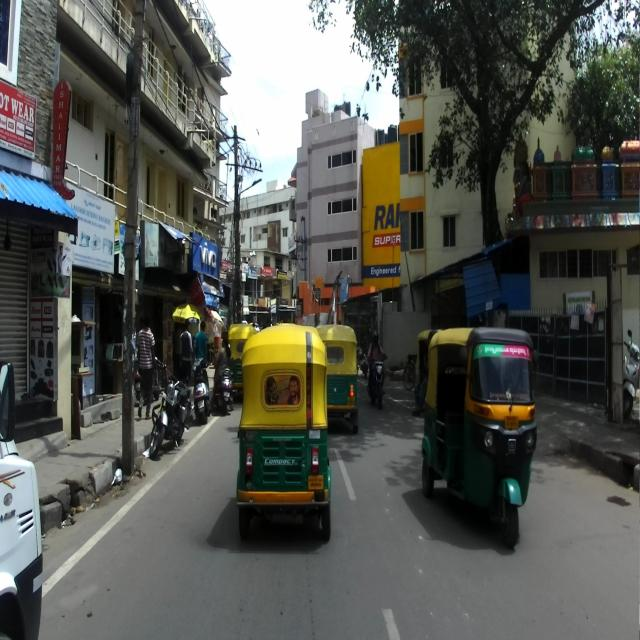autorickshaw: (421, 327, 538, 548), (236, 325, 331, 540), (314, 323, 358, 435)
motorcycle: (149, 355, 191, 459)
scooter: (190, 355, 212, 424)
